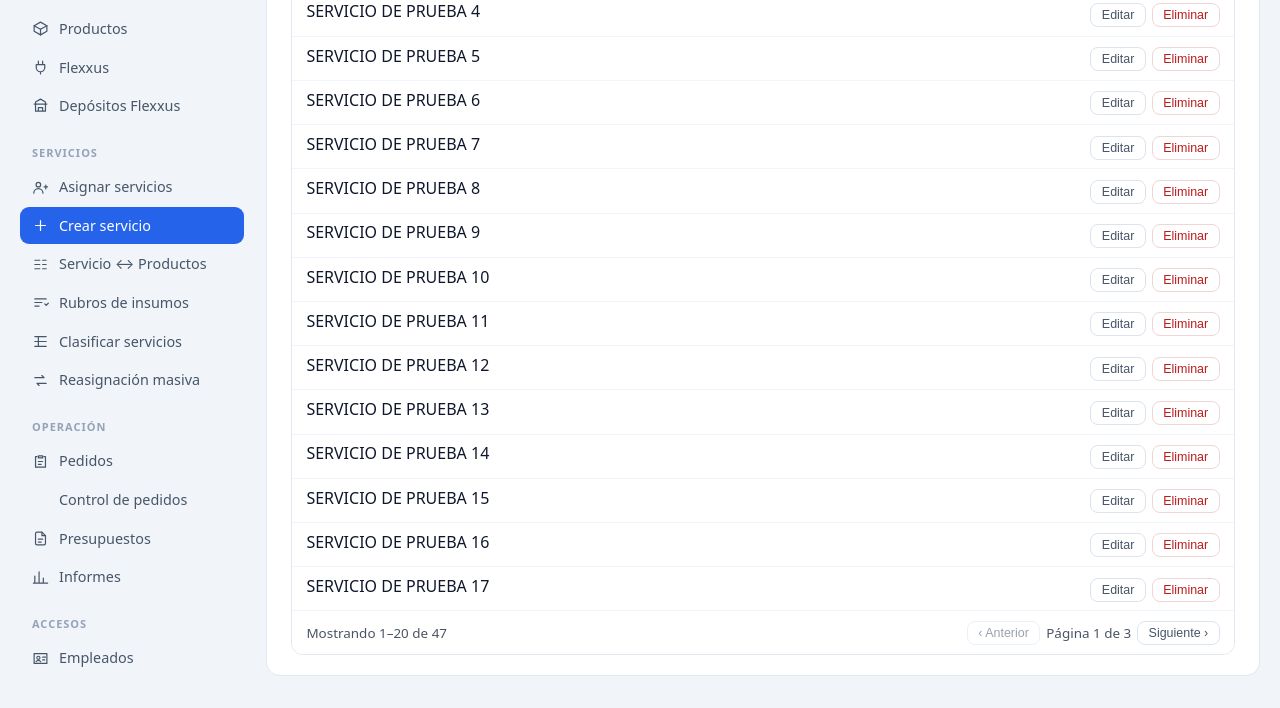
Test case: Crear servicio — buscar y paginar › buscar desde una página lejana vuelve a la primera y muestra resultados
This screenshot has width=1280, height=708.
(page scrolled)
Click the button with aria-label "Página siguiente" at (1178, 633), box [1137, 621, 1220, 645]
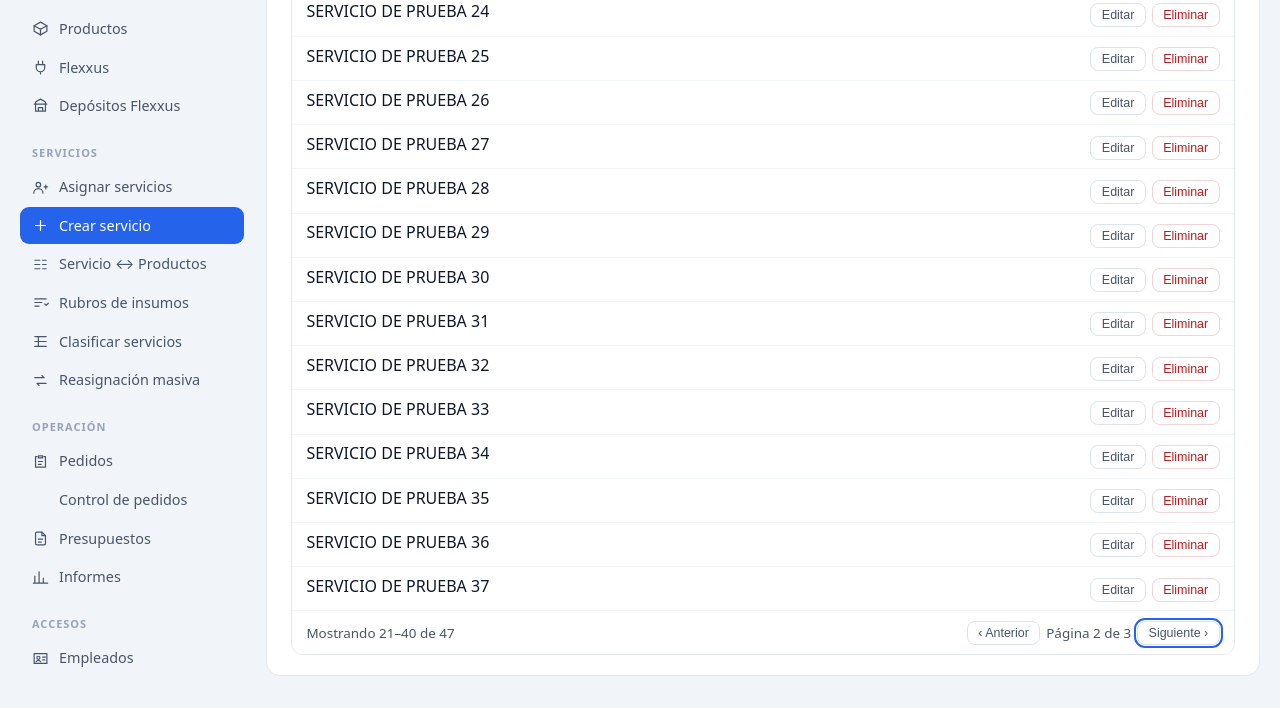
Click the button with aria-label "Página siguiente" at (1178, 633), box [1137, 621, 1220, 645]
(page scrolled)
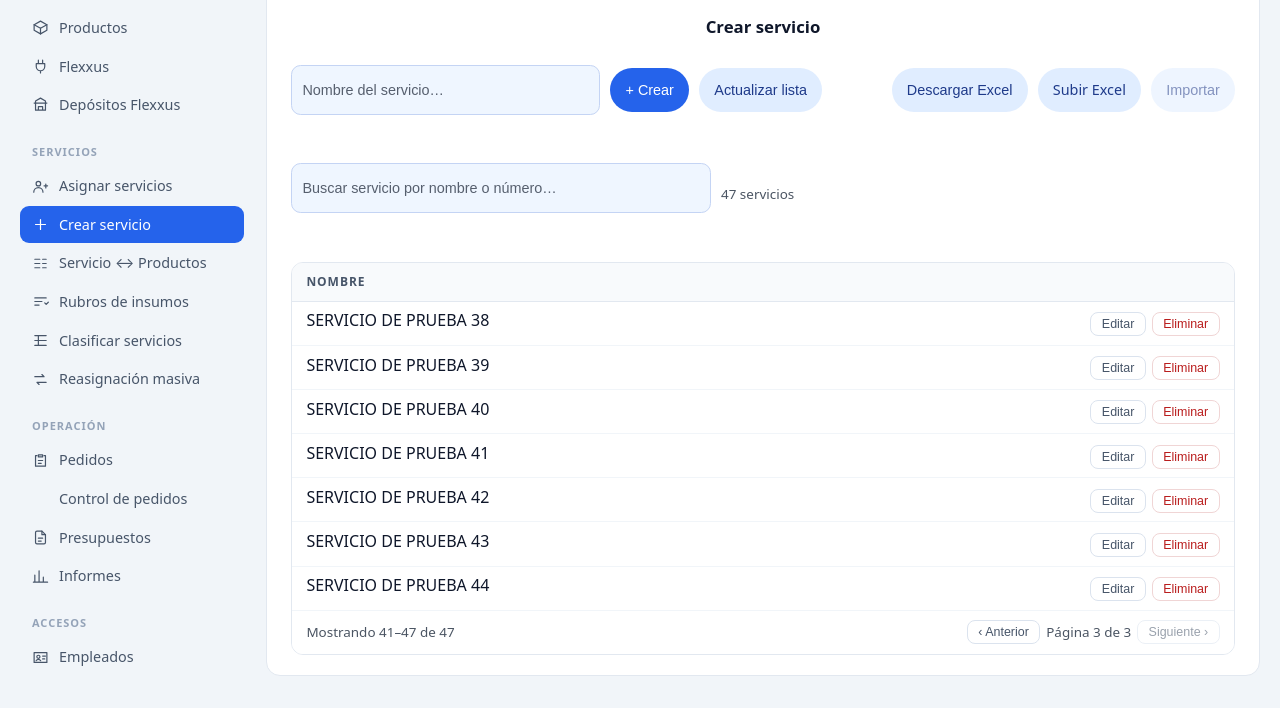
Now the text "Página 3 de 3" is shown, box [1046, 622, 1131, 643]
Type "hospital" into the search field labelled "Buscar servicio" at (501, 188), box [291, 163, 711, 213]
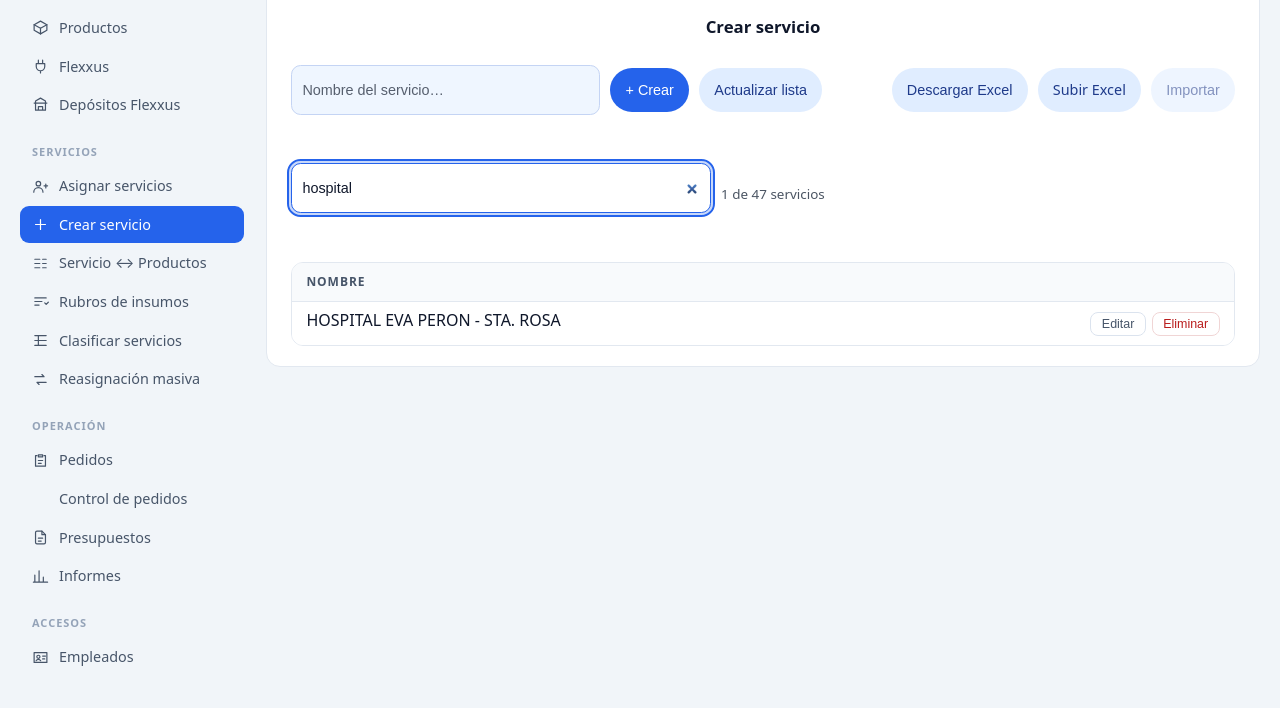
Now the text "HOSPITAL EVA PERON - STA. ROSA" is shown, box [306, 309, 561, 331]
